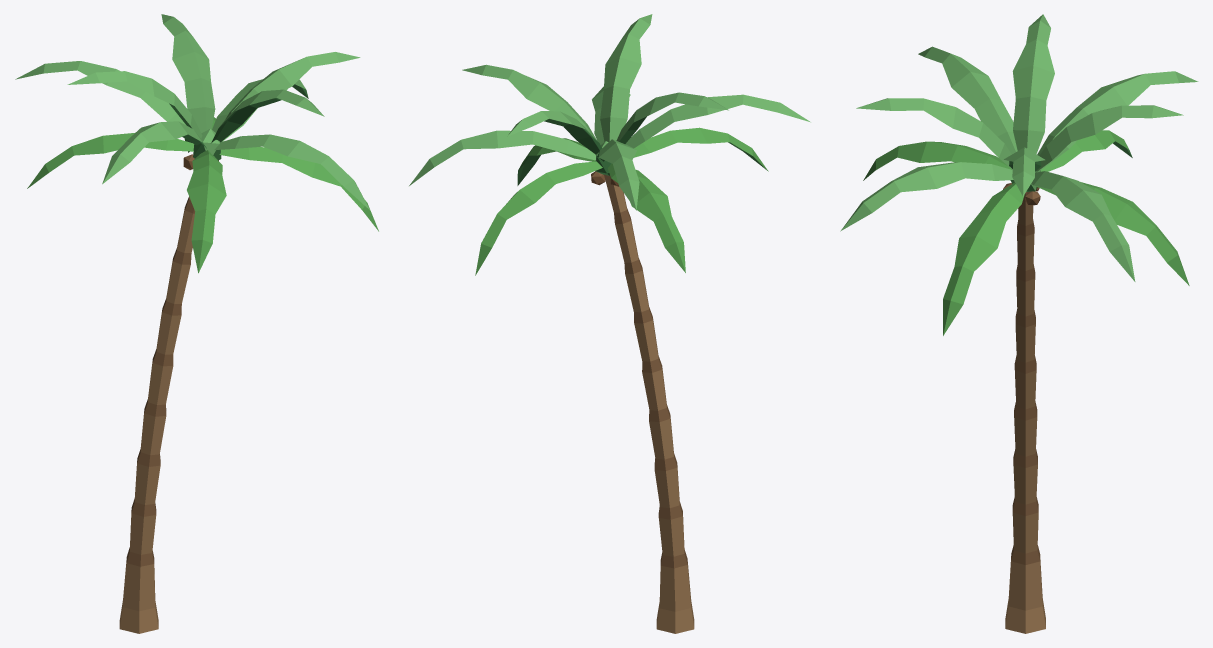
Rendered from palm_a.glb.
The picture shows the model from 3 angles, left to right: view 1: azimuth 30°, elevation 25°; view 2: azimuth 150°, elevation 25°; view 3: azimuth 270°, elevation 25°; orthographic projection. The views are drawn at different scales.
Visible parts, largest first — view 1: palm_a; view 2: palm_a; view 3: palm_a.
Boxes of the visible parts, x1=… form: palm_a: x1=15, y1=14, x2=378, y2=633; palm_a: x1=409, y1=14, x2=810, y2=633; palm_a: x1=840, y1=14, x2=1198, y2=633.
Size of the model in its own units: 6.22 by 10.65 by 5.92.
